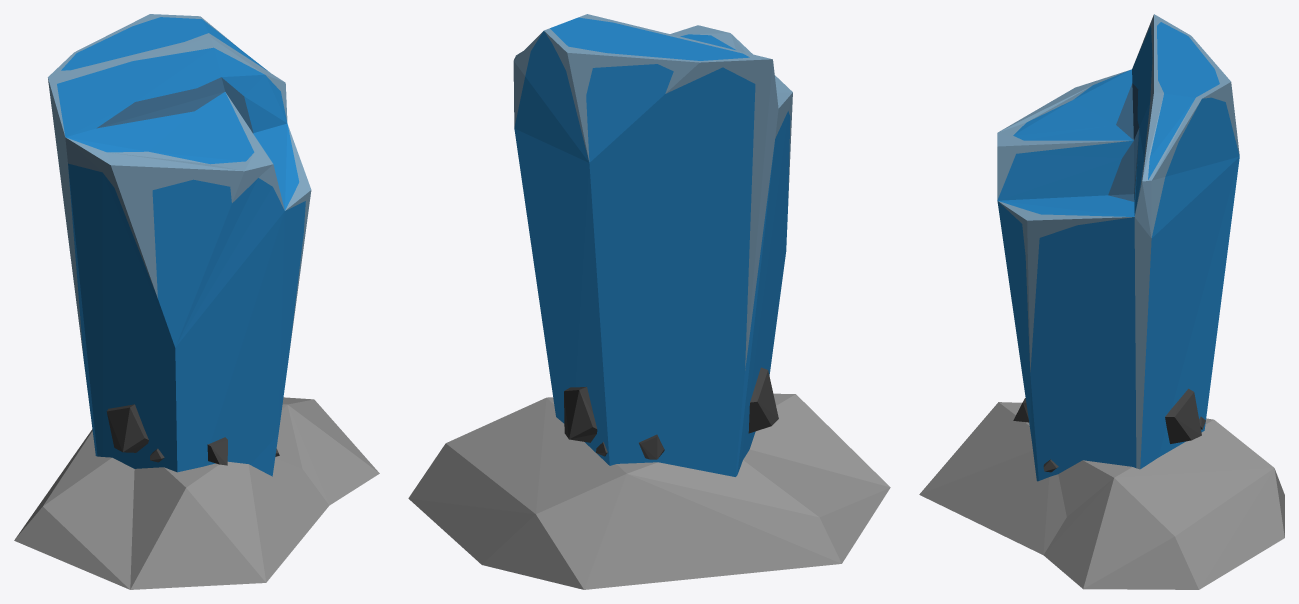
Rendered from Stone_Blue_A_06_outline.FBX.
3 renders of one model, left to right at view 1: azimuth 30°, elevation 25°; view 2: azimuth 150°, elevation 25°; view 3: azimuth 270°, elevation 25°, orthographic. The views are drawn at different scales.
Parts seen in each view (by area): view 1: Stone_Blue_A_06; view 2: Stone_Blue_A_06; view 3: Stone_Blue_A_06.
Part boxes in pixels (x1,y1,x2,y2): Stone_Blue_A_06: (14, 14, 379, 589); Stone_Blue_A_06: (408, 14, 890, 589); Stone_Blue_A_06: (919, 14, 1284, 589).
Bounding box in the file's own units: 1.86 × 2.28 × 1.74.
